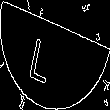L_N: (41, 26, 69, 84)
